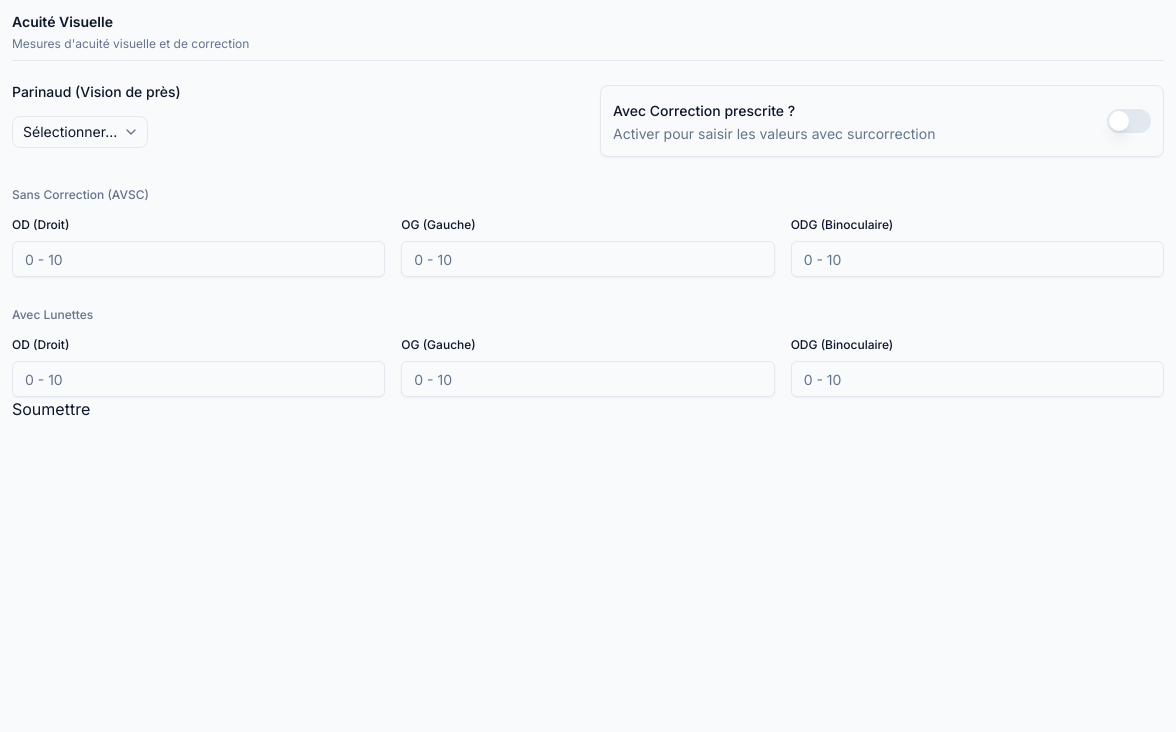
Test: VisualAcuityForm › switch Correction activé › affiche les 3 champs prescrits quand le switch est activé
Click the switch named "avec correction prescrite": [1129, 121] box [1107, 109, 1151, 133]
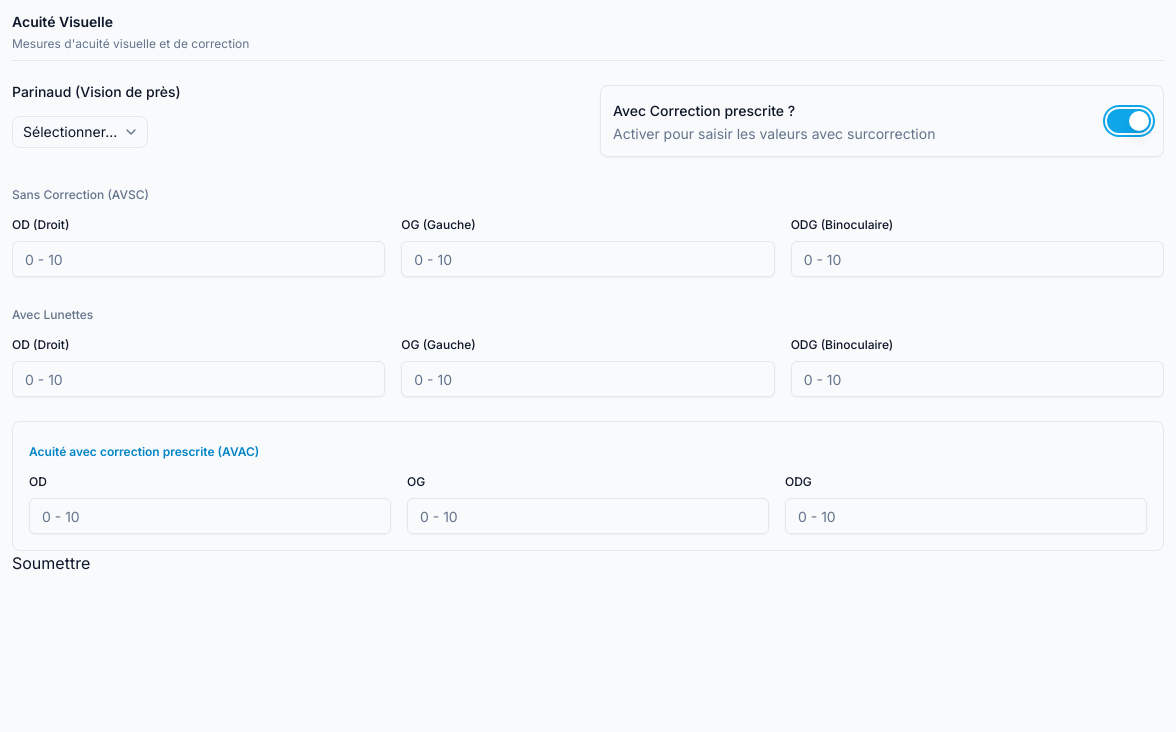
Expected: the text "Acuité avec correction prescrite (AVAC)" is shown, [29, 444, 259, 459]
